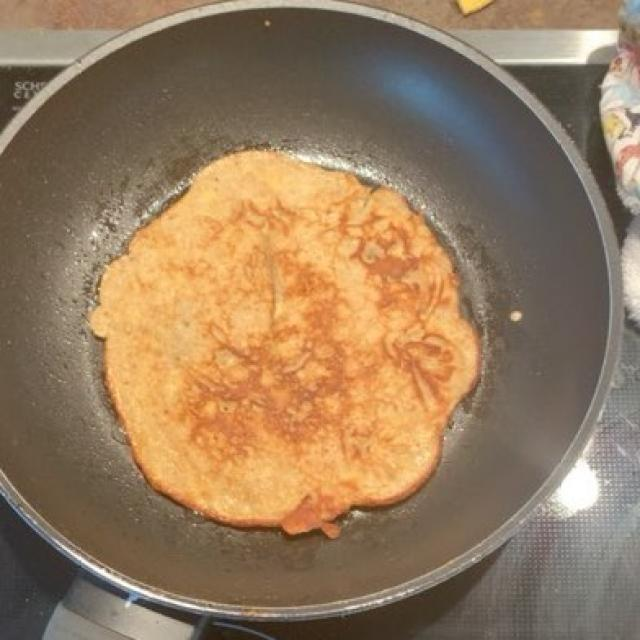pancakes: (92, 161, 471, 533)
